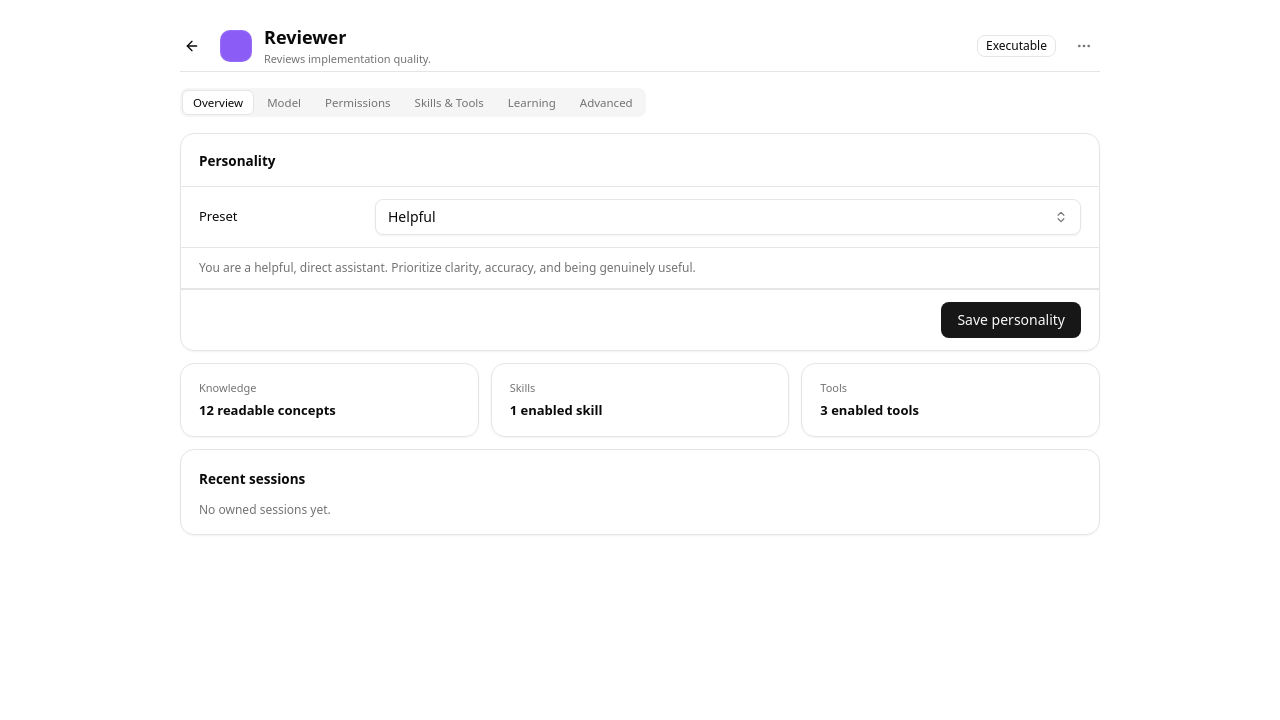
Test: Learning renders the selected agent's Learning tab
Click the button "Learning".
click(532, 102)  # box [497,90,567,115]
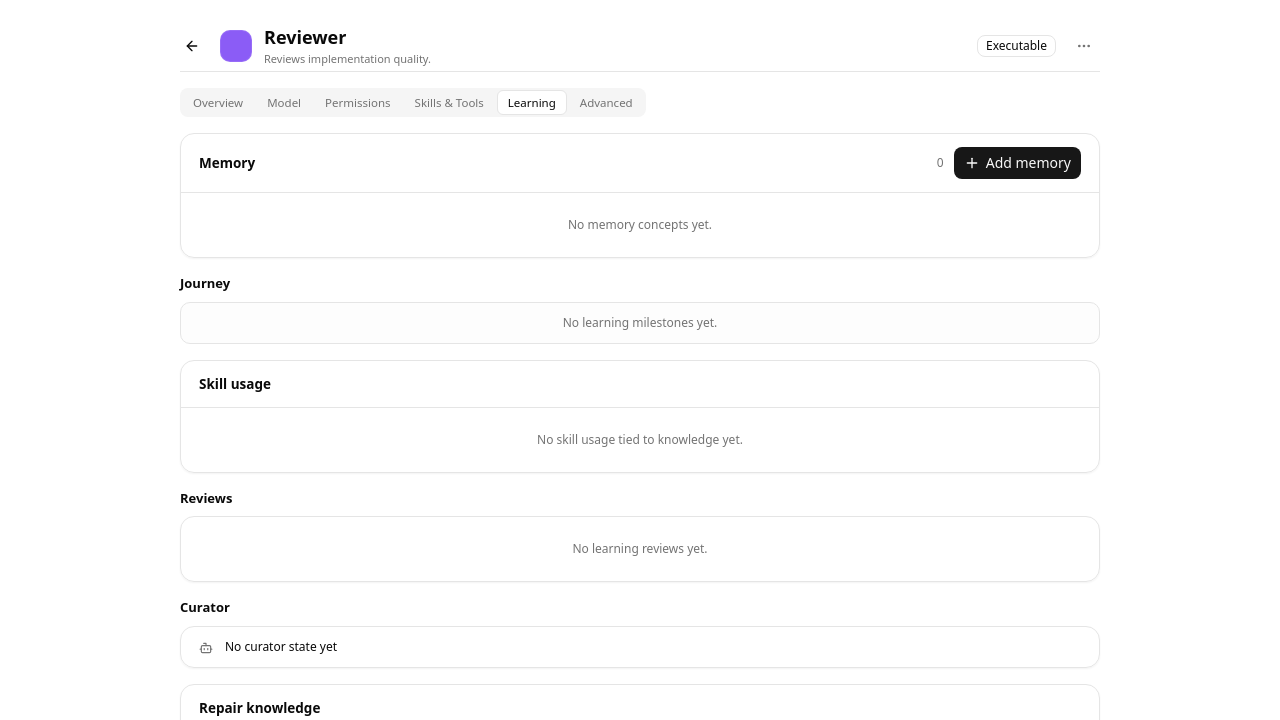
Expected: the button "Add memory" is shown, [954,147,1081,179]
Expected: the text "No memory concepts yet." is shown, [568,216,712,233]
